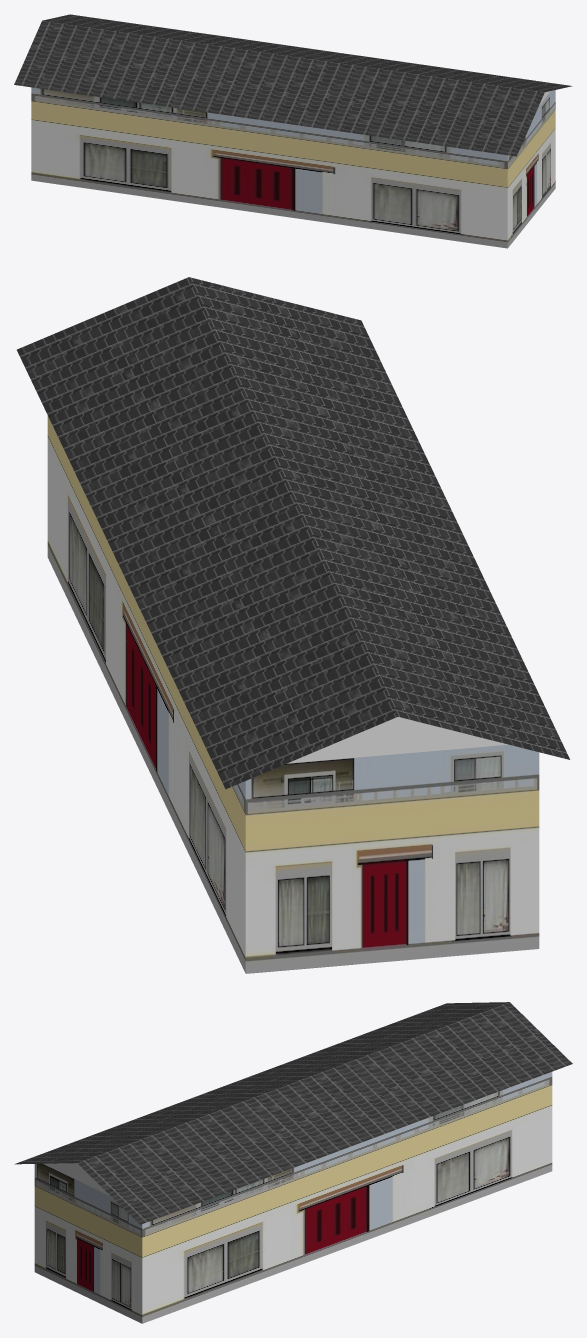
3 renders of one model, top to bottom at view 1: azimuth 30°, elevation 25°; view 2: azimuth 150°, elevation 25°; view 3: azimuth 270°, elevation 25°, orthographic. The views are drawn at different scales.
Parts seen in each view (by area): view 1: CityEngineMaterial_15_m, CityEngineMaterial_16_m; view 2: CityEngineMaterial_16_m, CityEngineMaterial_15_m, CityEngineMaterial_3_m; view 3: CityEngineMaterial_15_m, CityEngineMaterial_16_m, CityEngineMaterial_3_m.
Part boxes in pixels (x1,y1,x2,y2): CityEngineMaterial_15_m: (31,87,555,248); CityEngineMaterial_16_m: (14,14,572,156); CityEngineMaterial_16_m: (17,277,569,789); CityEngineMaterial_15_m: (47,416,539,973); CityEngineMaterial_3_m: (287,717,508,763); CityEngineMaterial_15_m: (34,1072,552,1323); CityEngineMaterial_16_m: (14,1002,572,1224); CityEngineMaterial_3_m: (43,1163,110,1196).
Bounding box in the file's own units: 34.74 × 10.17 × 37.03.
